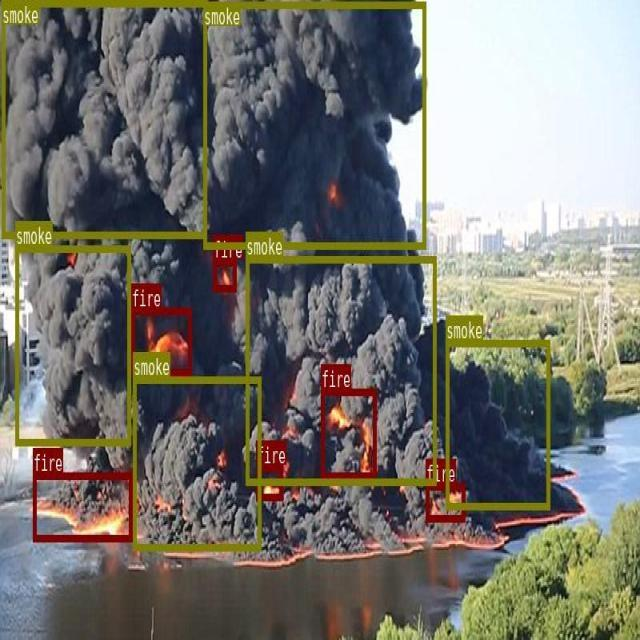fire: (32, 472, 132, 541), (320, 389, 376, 478), (131, 308, 190, 374), (426, 482, 465, 520), (256, 465, 282, 499), (212, 258, 236, 291)
smoke: (203, 0, 425, 248), (1, 0, 206, 236), (245, 256, 436, 484), (15, 244, 130, 445), (133, 375, 260, 549), (445, 340, 549, 509)
